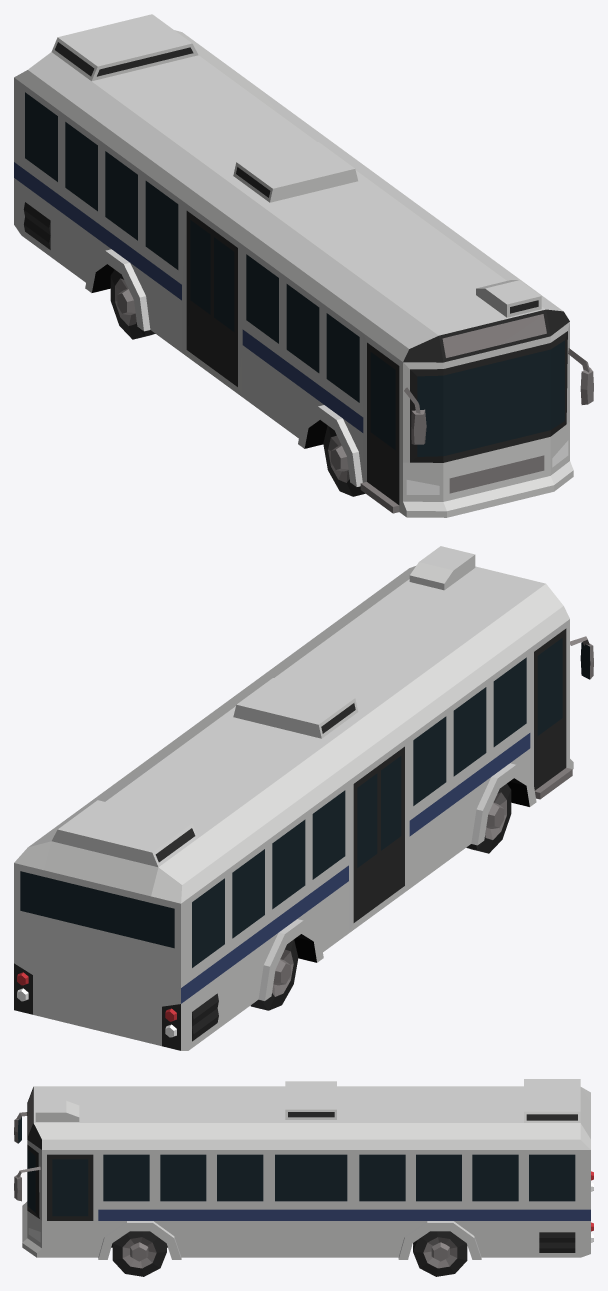
Rendered from bus-passenger.glb.
The picture shows the model from 3 angles, top to bottom: view 1: azimuth 30°, elevation 25°; view 2: azimuth 150°, elevation 25°; view 3: azimuth 270°, elevation 25°; orthographic projection. The views are drawn at different scales.
Parts seen in each view (by area): view 1: bus-passenger-base, bus-passenger-wheel_BR, bus-passenger-wheel_FR; view 2: bus-passenger-base, bus-passenger-wheel_FR, bus-passenger-wheel_BR; view 3: bus-passenger-base, bus-passenger-wheel_FL, bus-passenger-wheel_BL.
Part boxes in pixels (bbox=[...]): bus-passenger-base: bbox=[14, 14, 593, 517]; bus-passenger-wheel_BR: bbox=[110, 270, 155, 339]; bus-passenger-wheel_FR: bbox=[323, 425, 365, 496]; bus-passenger-base: bbox=[14, 546, 593, 1050]; bus-passenger-wheel_FR: bbox=[466, 783, 511, 853]; bus-passenger-wheel_BR: bbox=[250, 939, 298, 1010]; bus-passenger-base: bbox=[14, 1079, 593, 1259]; bus-passenger-wheel_FL: bbox=[112, 1231, 166, 1276]; bus-passenger-wheel_BL: bbox=[413, 1231, 467, 1276].
Size of the model in its own units: 2.85 by 3.34 by 11.28.
Materials: 1 (1 with a texture image).
